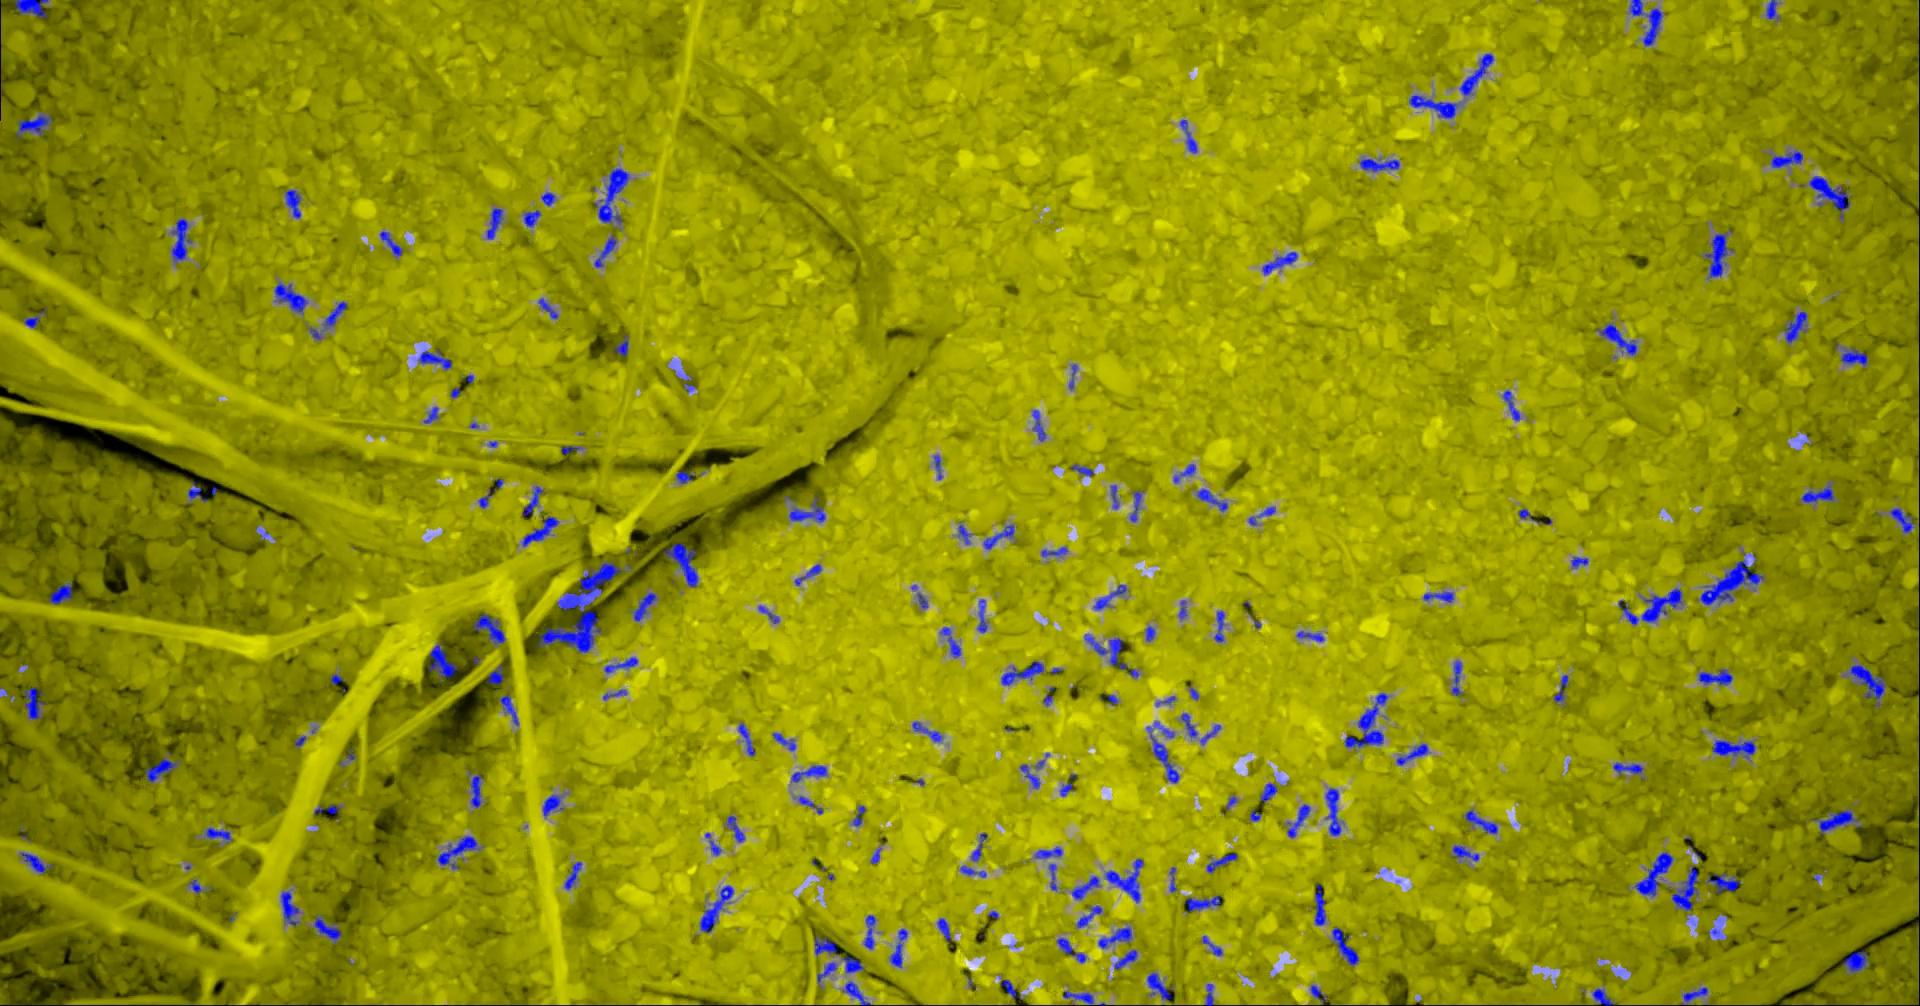ant: (1702, 553, 1765, 605), (1346, 692, 1389, 747), (1620, 587, 1684, 624), (1147, 721, 1181, 782), (596, 166, 631, 224), (1810, 175, 1851, 218), (1634, 851, 1674, 895), (1106, 857, 1145, 902), (701, 885, 735, 932), (1086, 633, 1128, 669), (1630, 0, 1663, 46), (439, 835, 483, 869), (665, 542, 698, 587), (1851, 664, 1886, 706), (1462, 53, 1495, 95), (1705, 232, 1735, 277), (1597, 323, 1638, 354), (1672, 865, 1700, 911), (523, 514, 560, 546), (1410, 95, 1459, 118), (1813, 810, 1862, 833), (430, 643, 458, 681), (1002, 661, 1045, 685), (1333, 927, 1360, 965), (276, 282, 309, 312), (790, 495, 827, 522), (474, 614, 505, 644), (1327, 788, 1346, 835), (173, 218, 193, 260), (17, 114, 53, 137), (1263, 251, 1299, 274), (1095, 584, 1128, 608), (1465, 809, 1498, 833), (1713, 739, 1757, 757), (479, 478, 504, 508), (146, 757, 177, 782), (1289, 804, 1312, 837), (315, 916, 343, 942), (324, 301, 349, 330), (1098, 926, 1133, 948), (1785, 311, 1810, 342), (985, 525, 1016, 549), (596, 235, 618, 267), (1197, 488, 1229, 511), (1397, 743, 1430, 765), (1148, 972, 1175, 998), (1058, 937, 1087, 962), (419, 349, 453, 370), (1708, 873, 1742, 893), (891, 929, 909, 967), (844, 981, 872, 1005), (25, 686, 46, 719), (22, 852, 55, 873), (635, 592, 658, 621), (941, 626, 963, 657), (282, 890, 301, 925), (500, 694, 521, 725), (1208, 852, 1239, 873), (1073, 876, 1101, 899), (1843, 949, 1870, 972), (792, 765, 828, 782), (1891, 507, 1915, 532), (1803, 483, 1835, 502), (523, 486, 545, 514), (1699, 668, 1735, 685), (1078, 904, 1103, 927), (796, 564, 823, 586), (1360, 158, 1401, 171), (15, 0, 50, 17), (739, 721, 756, 756), (914, 721, 943, 741), (381, 230, 403, 255), (1181, 119, 1197, 152), (1771, 150, 1804, 166), (1503, 390, 1521, 420), (1250, 506, 1277, 525), (488, 207, 504, 239), (1189, 895, 1223, 911), (51, 580, 72, 605), (971, 832, 989, 861), (1843, 347, 1869, 366), (1683, 986, 1709, 1005), (606, 657, 639, 672), (1021, 763, 1041, 788), (817, 935, 841, 955), (286, 189, 302, 218), (1316, 883, 1327, 925), (728, 815, 745, 842), (543, 794, 565, 815), (1032, 409, 1048, 439), (1116, 949, 1139, 969), (566, 861, 583, 889), (1454, 845, 1481, 861), (1203, 935, 1224, 955), (818, 962, 838, 983), (25, 307, 48, 326), (865, 915, 877, 949), (1131, 490, 1145, 521), (1064, 991, 1095, 1005), (189, 480, 210, 500), (1201, 724, 1222, 744), (1002, 979, 1023, 998), (1175, 464, 1197, 481), (775, 732, 797, 749), (1062, 774, 1079, 796), (1453, 661, 1464, 695), (1556, 674, 1570, 702), (1182, 713, 1197, 738), (759, 605, 781, 622), (978, 600, 989, 633), (472, 774, 484, 807), (1594, 988, 1617, 1005), (540, 298, 559, 318), (1423, 591, 1455, 602), (1312, 984, 1330, 1005), (706, 832, 723, 854), (844, 955, 866, 972), (1614, 762, 1644, 774), (206, 827, 232, 840), (615, 333, 630, 354), (1215, 610, 1225, 641), (1297, 630, 1324, 641), (1036, 846, 1064, 857), (938, 918, 952, 941), (524, 210, 542, 227), (1261, 782, 1277, 801), (961, 865, 988, 876), (489, 666, 505, 683), (1072, 464, 1095, 476), (853, 805, 867, 826), (682, 373, 697, 391), (1043, 546, 1069, 556), (316, 804, 342, 814), (1768, 0, 1782, 18), (959, 525, 971, 544), (425, 406, 439, 423), (677, 470, 695, 483), (935, 455, 943, 479), (1050, 862, 1058, 890), (1045, 686, 1055, 705), (1206, 983, 1215, 1005), (1520, 508, 1537, 520), (1572, 556, 1589, 568), (1171, 868, 1178, 892), (563, 445, 583, 453), (1112, 485, 1120, 508), (543, 192, 556, 205), (1147, 625, 1156, 641)
